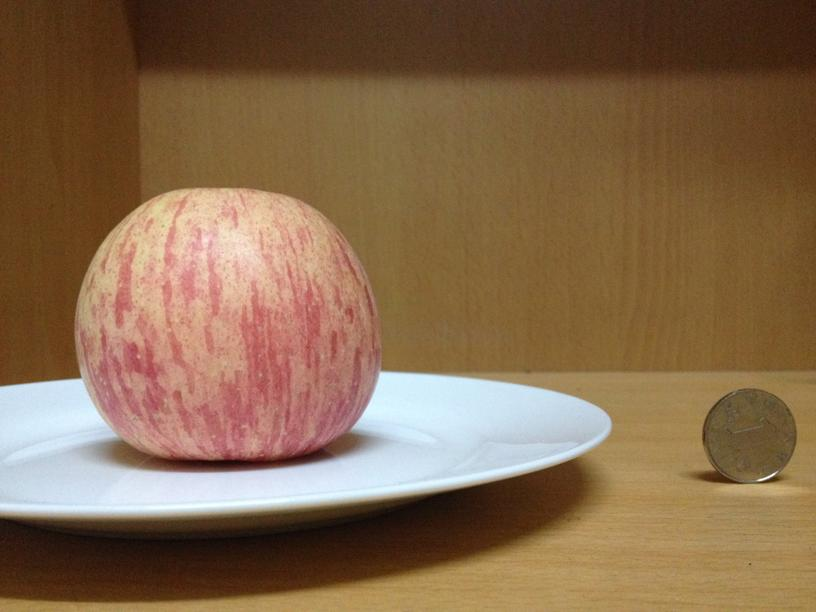apple: (72, 188, 383, 460)
coin: (703, 388, 795, 481)
